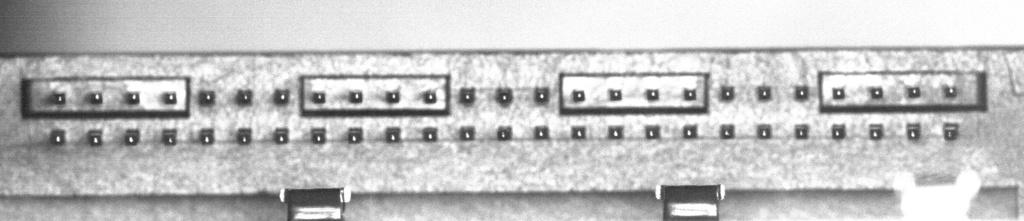pin_ok: (942, 123, 959, 141), (496, 87, 513, 104), (50, 127, 66, 145), (458, 87, 476, 103), (236, 88, 253, 104), (273, 88, 290, 104), (198, 89, 215, 105), (87, 129, 103, 146), (161, 128, 177, 145), (534, 86, 550, 102), (124, 129, 140, 145), (236, 128, 252, 144), (273, 128, 289, 144), (756, 85, 772, 100), (199, 128, 214, 144), (830, 124, 846, 139), (794, 124, 810, 139), (459, 126, 475, 141), (311, 127, 326, 143), (347, 127, 362, 143), (385, 127, 401, 142), (533, 125, 549, 140), (869, 123, 884, 139), (720, 85, 735, 100), (794, 85, 809, 100), (906, 125, 921, 140), (757, 124, 772, 139), (422, 127, 438, 141), (644, 125, 660, 139), (53, 92, 68, 106), (162, 91, 177, 105), (385, 89, 400, 103), (720, 124, 735, 138), (683, 124, 697, 139), (497, 126, 512, 140), (571, 125, 586, 139), (608, 125, 623, 139), (943, 84, 957, 98), (423, 90, 437, 104), (683, 87, 697, 101), (87, 91, 102, 104), (311, 90, 326, 103), (571, 89, 586, 102), (869, 86, 884, 99), (645, 88, 660, 101), (125, 91, 139, 104), (832, 86, 846, 99), (907, 86, 921, 99), (349, 90, 363, 103), (608, 88, 622, 101)
